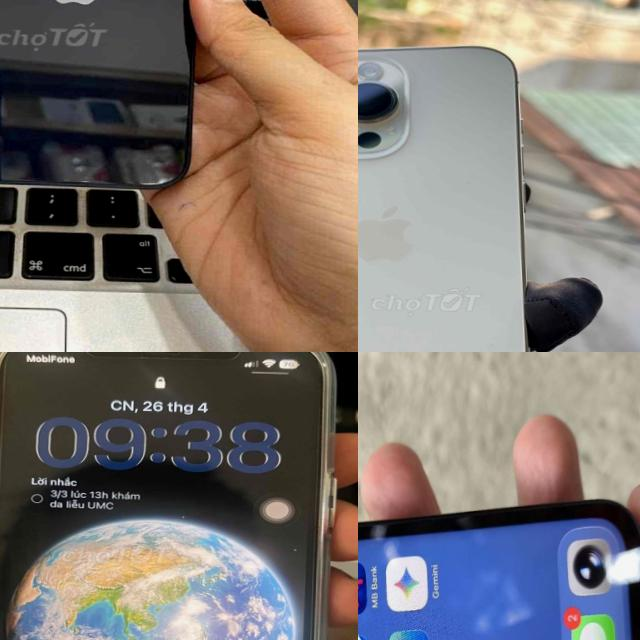gen_12_13: (0, 352, 345, 640), (358, 486, 640, 640), (0, 0, 210, 186)
gen_14: (358, 36, 541, 352)
